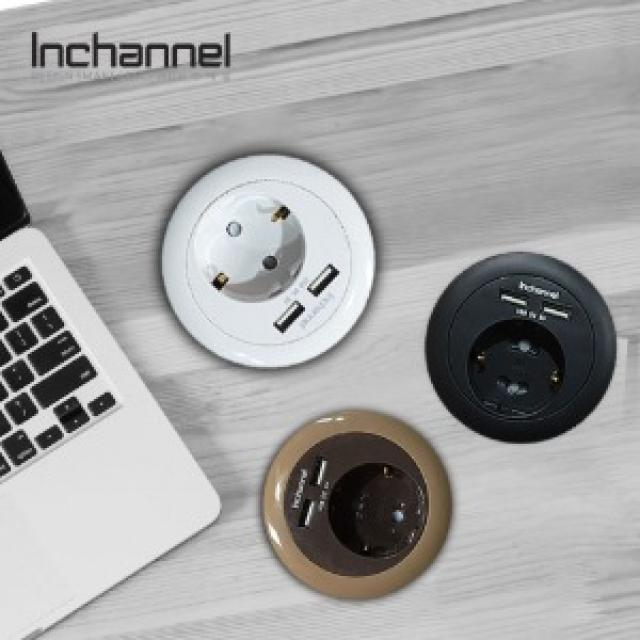typeb: (175, 162, 392, 356), (267, 418, 458, 592), (436, 232, 596, 439)
